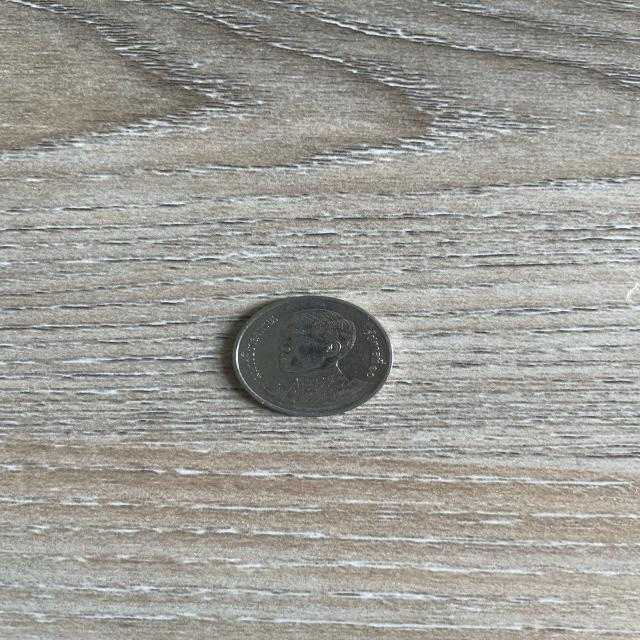1 Bath: (207, 284, 412, 430)
